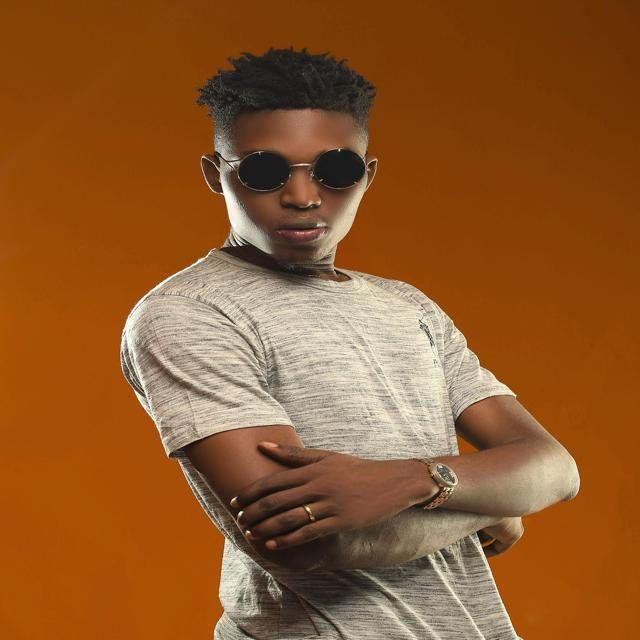2_gafas: (213, 146, 367, 193)
